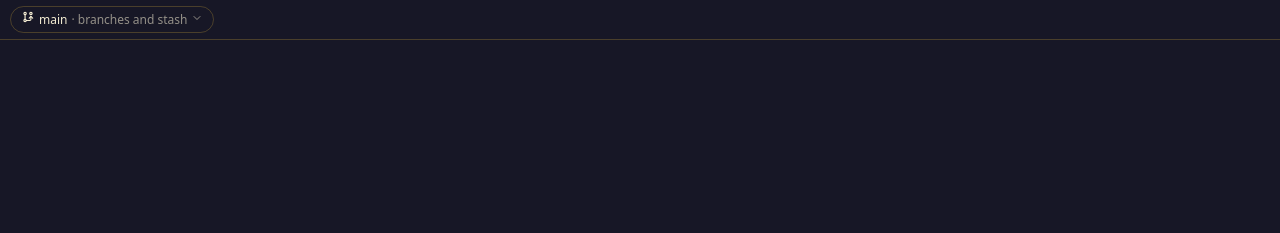
Scenario: BranchBar › pauses switching, creating and restoring while a reply is running, but still lets you look
This screenshot has width=1280, height=233.
Click the button "main · branches and stash". click: click(112, 20)
box: [10, 6, 214, 33]
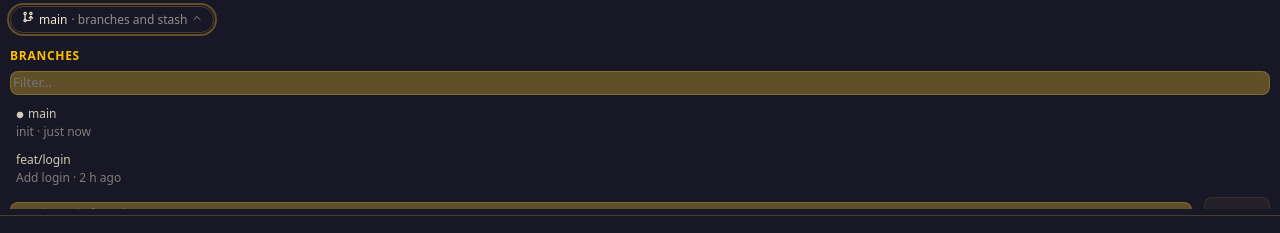
Result: the button "feat/login Add login · 2 h ago" is disabled at [10, 146, 1270, 190]
Result: the text "Add login · 2 h ago" is shown at [16, 168, 121, 186]
